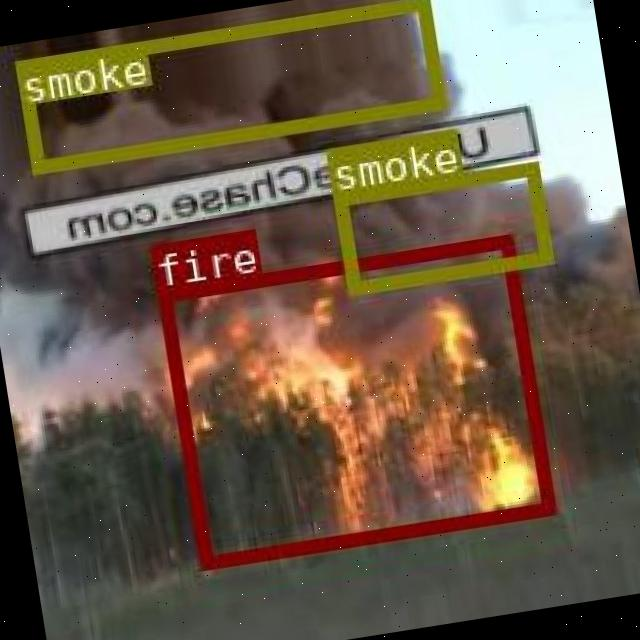fire: (155, 232, 553, 567)
smoke: (12, 0, 444, 171), (332, 160, 552, 294)
